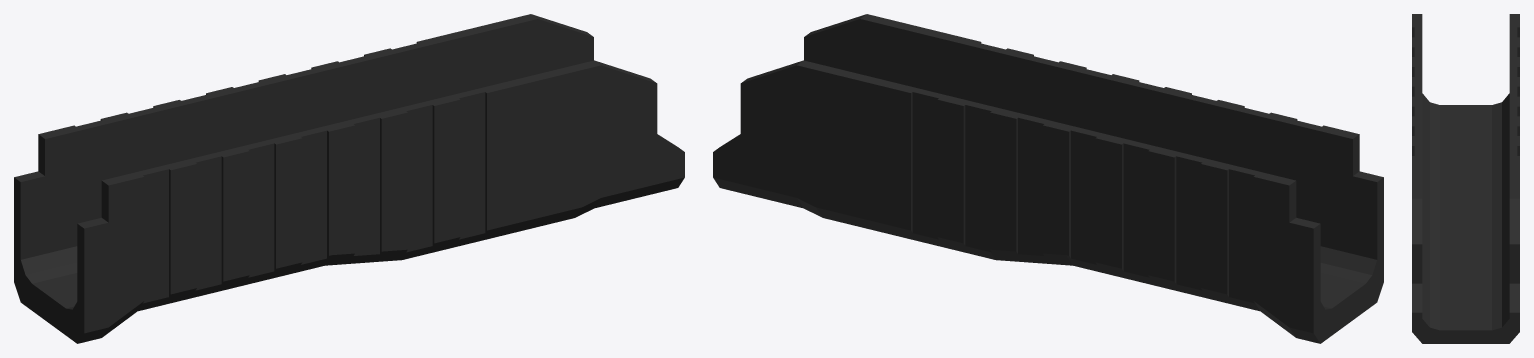
The model's file is Shotgun5_03_3.fbx.
3 views of the same model, side by side, from view 1: azimuth 30°, elevation 25°; view 2: azimuth 150°, elevation 25°; view 3: azimuth 270°, elevation 25° (orthographic). The views are drawn at different scales.
Parts seen in each view (by area): view 1: Shotgun5_03_3; view 2: Shotgun5_03_3; view 3: Shotgun5_03_3.
Part boxes in pixels (bbox=[...]): Shotgun5_03_3: bbox=[14, 14, 684, 343]; Shotgun5_03_3: bbox=[713, 14, 1383, 343]; Shotgun5_03_3: bbox=[1412, 14, 1519, 343].
Bounding box in the file's own units: 0.28 × 0.0701 × 0.0566.
